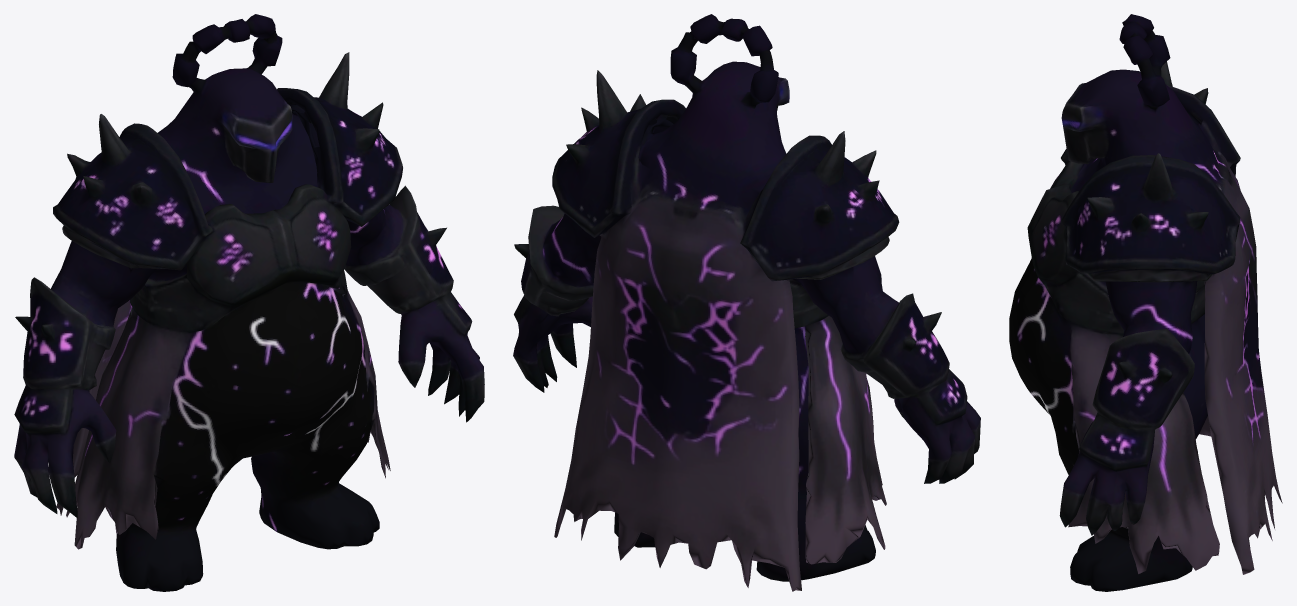
File: void-abyss-slime-boss.glb
3 renders of one model, left to right at view 1: azimuth 30°, elevation 25°; view 2: azimuth 150°, elevation 25°; view 3: azimuth 270°, elevation 25°, orthographic. The views are drawn at different scales.
Parts seen in each view (by area): view 1: world; view 2: world; view 3: world.
Part boxes in pixels (bbox=[...]): world: bbox=[14, 14, 484, 591]; world: bbox=[513, 14, 980, 591]; world: bbox=[1009, 14, 1282, 591].
Size of the model in its own units: 0.9023 by 1 by 0.4884.
1 material, 1 textured.
